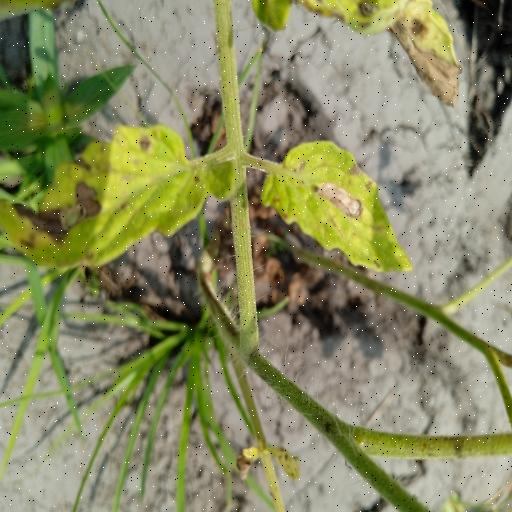Tomato_Brown_Spots: (0, 121, 240, 276), (259, 133, 414, 284)
